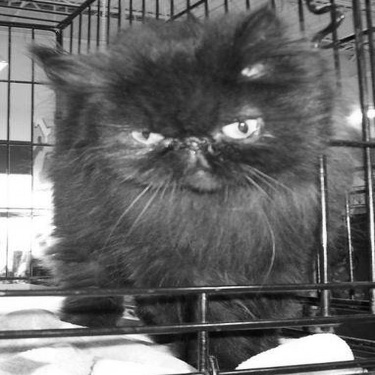cat: (10, 17, 374, 356)
